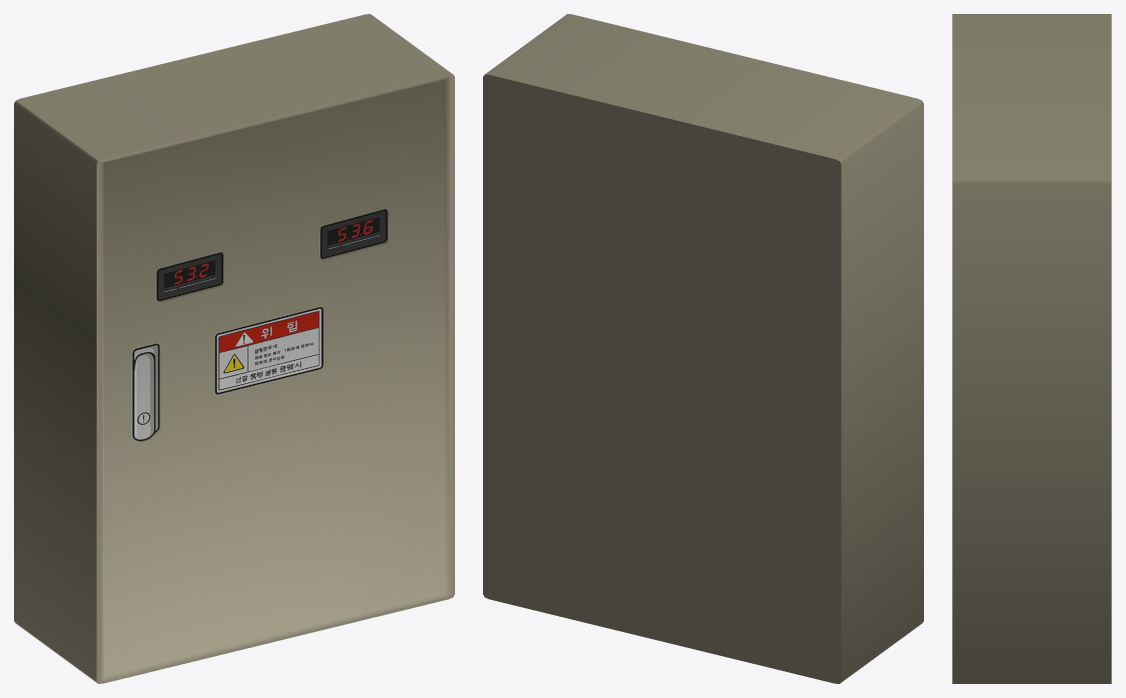
The picture shows the model from 3 angles, left to right: view 1: azimuth 30°, elevation 25°; view 2: azimuth 150°, elevation 25°; view 3: azimuth 270°, elevation 25°; orthographic projection. The views are drawn at different scales.
Parts seen in each view (by area): view 1: RM1-DH07W050D020; view 2: RM1-DH07W050D020; view 3: RM1-DH07W050D020.
Part boxes in pixels (x1,y1,x2,y2): RM1-DH07W050D020: (14, 14, 454, 683); RM1-DH07W050D020: (483, 14, 923, 683); RM1-DH07W050D020: (952, 14, 1111, 683).
Bounding box in the file's own units: 0.5 × 0.7 × 0.2.
2 materials, 1 textured.
